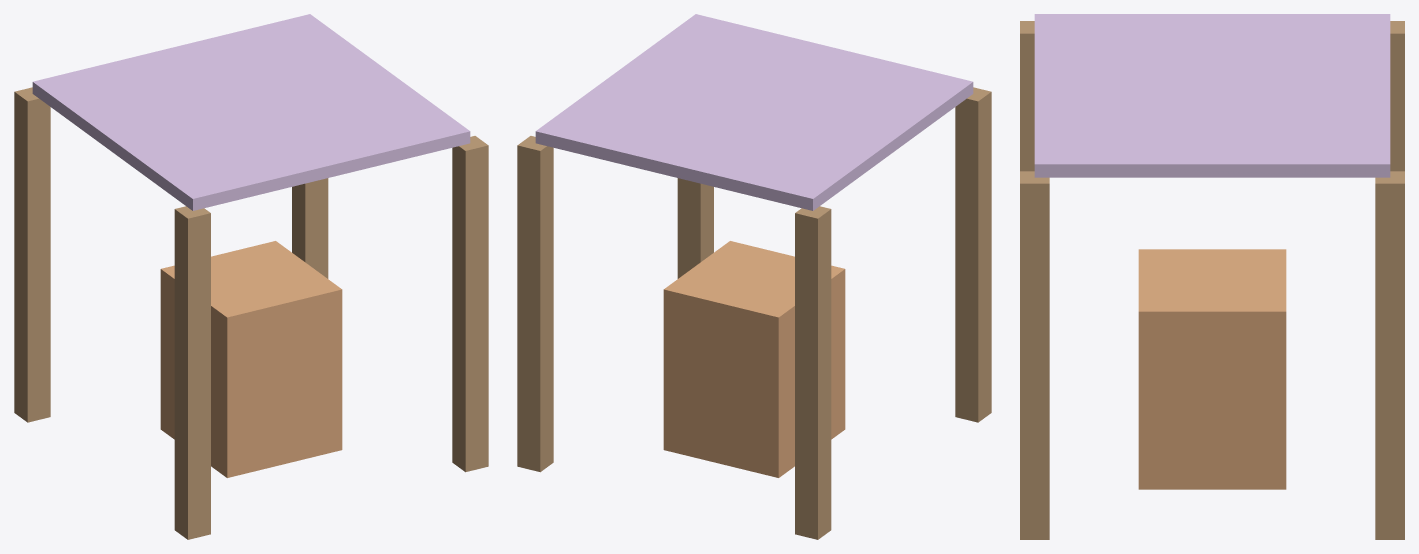
The model's file is Prop_Water_AMF_RainCatcher_V5.glb.
3 renders of one model, left to right at view 1: azimuth 30°, elevation 25°; view 2: azimuth 150°, elevation 25°; view 3: azimuth 270°, elevation 25°, orthographic. The views are drawn at different scales.
Parts seen in each view (by area): view 1: Prop_Water_AMF_RainCatcher_V5; view 2: Prop_Water_AMF_RainCatcher_V5; view 3: Prop_Water_AMF_RainCatcher_V5.
Boxes of the visible parts, box(x1,y1,x2,y2) form: Prop_Water_AMF_RainCatcher_V5: box(14, 14, 488, 539); Prop_Water_AMF_RainCatcher_V5: box(517, 14, 991, 539); Prop_Water_AMF_RainCatcher_V5: box(1020, 14, 1404, 539).
Bounding box in the file's own units: 1.57 × 1.66 × 1.57.
